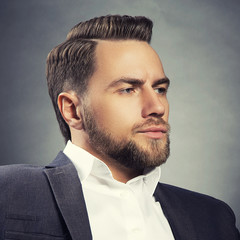young: (39, 16, 185, 172)
